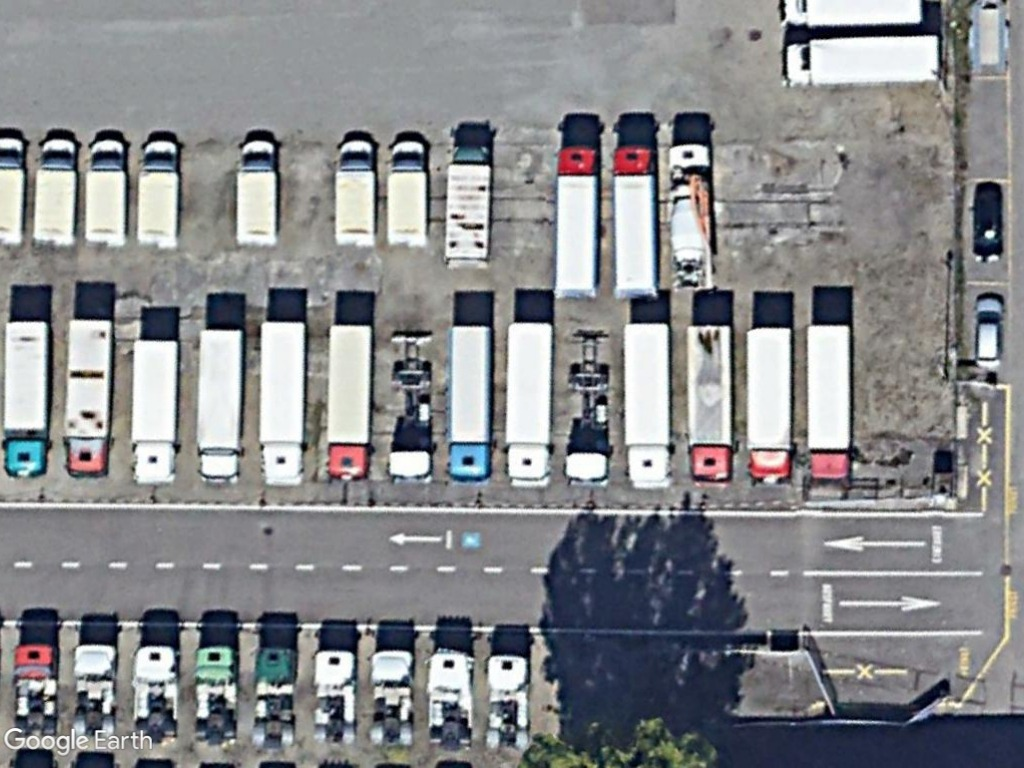car: (973, 292, 1005, 373)
truck: (257, 316, 309, 489), (620, 319, 670, 492), (62, 314, 114, 480), (783, 34, 941, 88), (684, 321, 734, 491), (192, 325, 244, 487), (323, 321, 375, 483), (0, 318, 51, 478), (504, 319, 552, 489), (804, 320, 853, 484), (611, 142, 661, 301), (444, 321, 491, 488), (745, 322, 793, 485), (129, 336, 180, 484), (555, 144, 600, 301), (444, 143, 493, 262), (134, 137, 179, 251), (32, 134, 76, 249), (383, 136, 427, 248), (84, 135, 125, 251), (333, 134, 374, 248), (235, 137, 276, 249)
